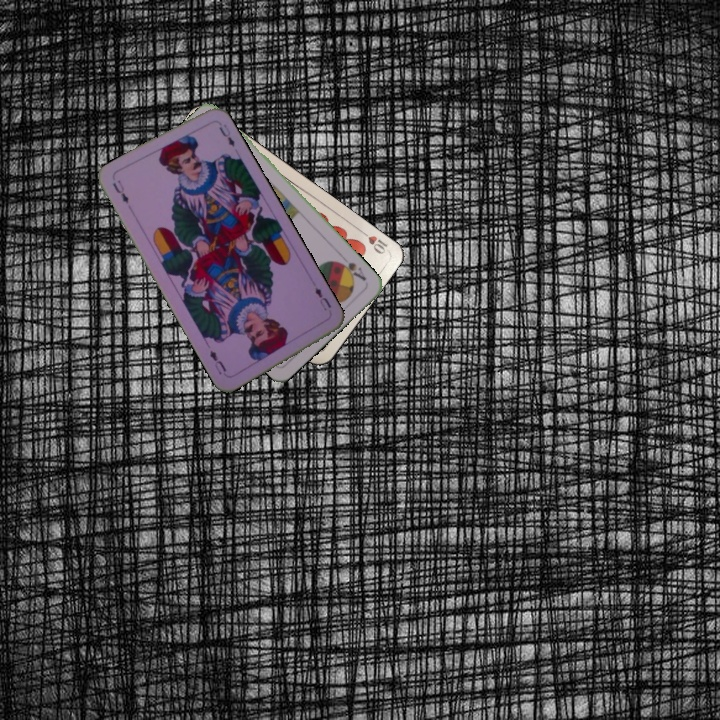EU: (311, 283, 334, 313), (108, 176, 131, 206)
H10: (355, 226, 391, 257)
SA: (334, 257, 369, 284)
